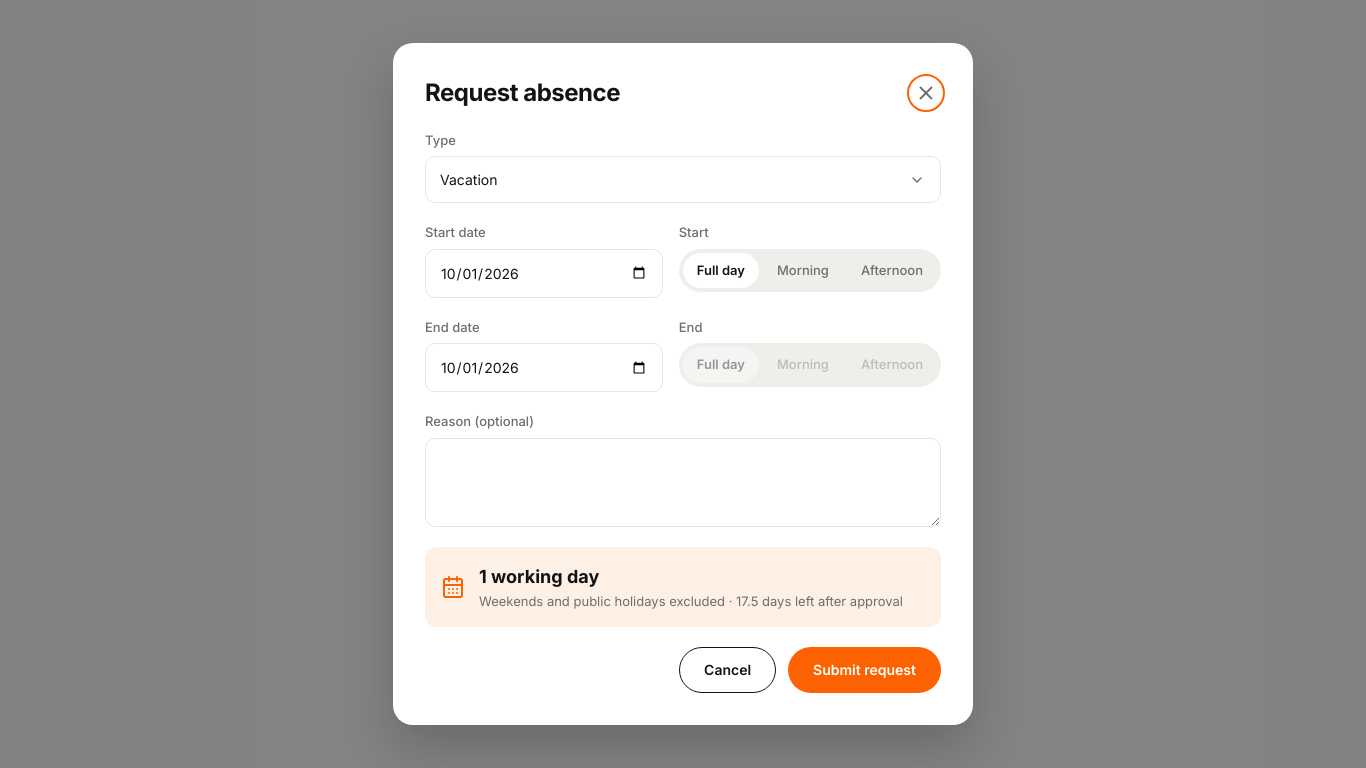
Test: RequestAbsenceDialog › counts working days over weekends and holidays, and limits the day parts
The width and height of the screenshot is (1366, 768).
Type "2026-10-09" into the date field labelled "End date". click: (544, 368)
box: [425, 343, 663, 392]
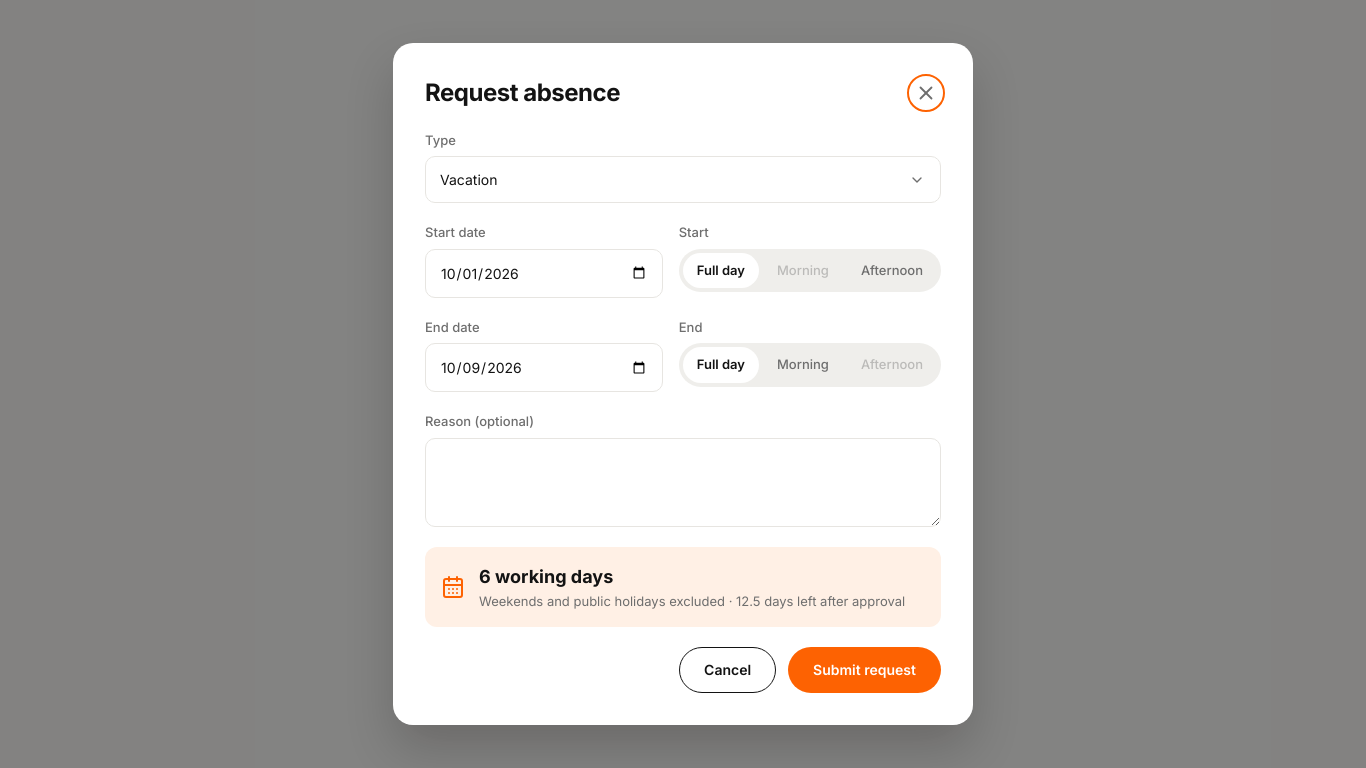
Expected: the 2nd radio button labelled "Afternoon" is disabled, [861, 356, 923, 372]
Expected: the 1st radio button labelled "Morning" is disabled, [777, 262, 829, 278]
Expected: the 2nd radio button labelled "Morning" is enabled, [777, 356, 829, 372]
